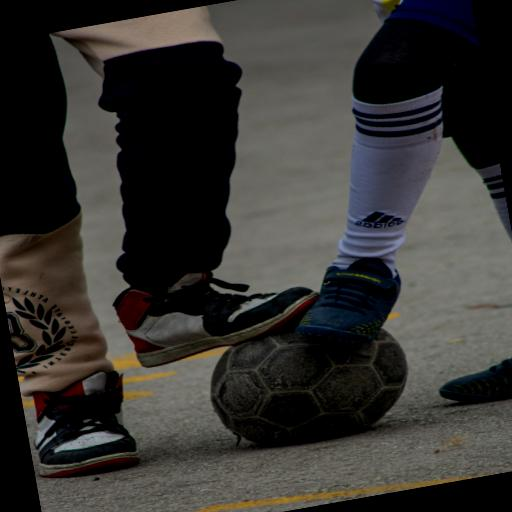shoe: (113, 273, 316, 367), (33, 372, 137, 477), (295, 259, 399, 343), (439, 358, 511, 402)
